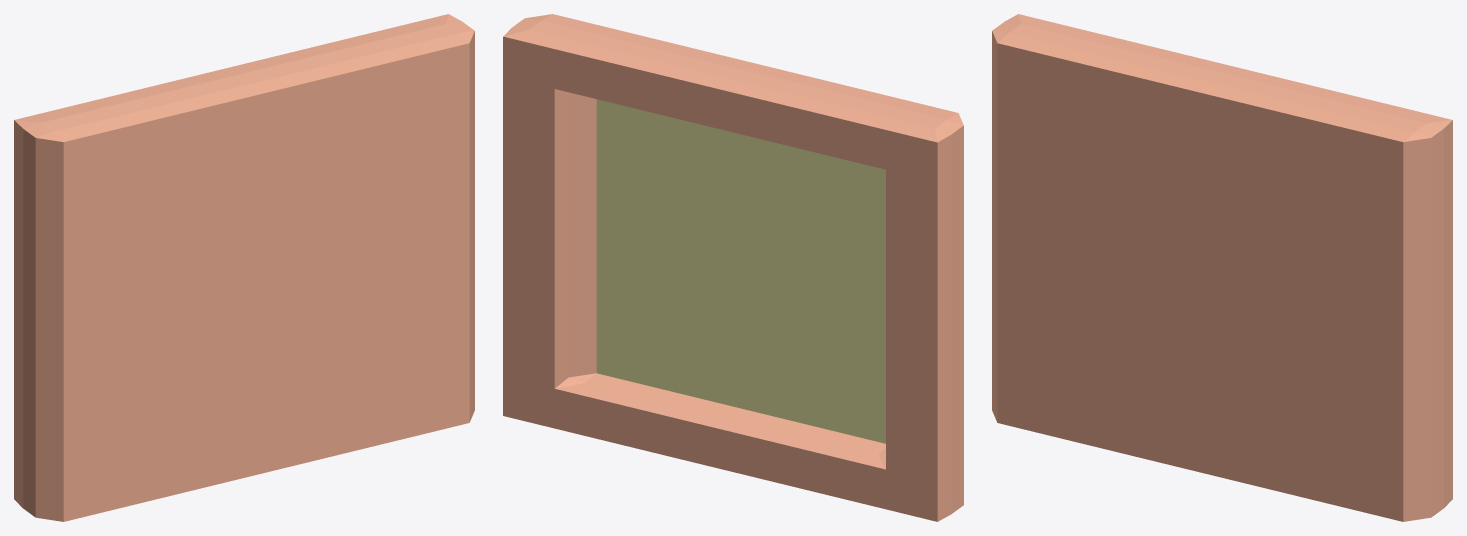
File: Picture_2_001.glb
3 views of the same model, side by side, from view 1: azimuth 30°, elevation 25°; view 2: azimuth 150°, elevation 25°; view 3: azimuth 330°, elevation 25° (orthographic).
Parts seen in each view (by area): view 1: Picture_2_001; view 2: Picture_2_001; view 3: Picture_2_001.
Boxes of the visible parts, <box> form: Picture_2_001: <box>14,14,474,521</box>; Picture_2_001: <box>503,14,963,521</box>; Picture_2_001: <box>992,14,1452,521</box>.
Size of the model in its own units: 0.8834 by 0.7363 by 0.1231.
